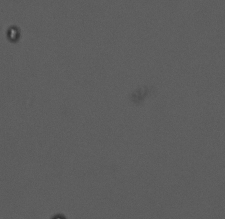Living Cell: (6, 25, 22, 44)
